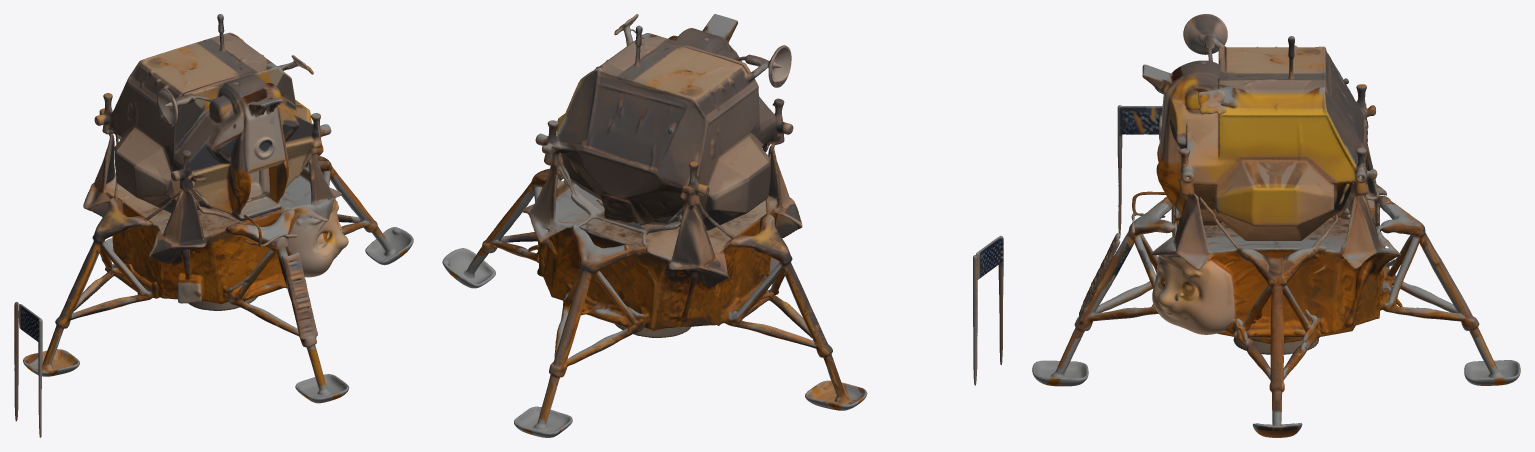
The model's file is apollo-11-eagle-descent-stage.glb.
3 renders of one model, left to right at view 1: azimuth 30°, elevation 25°; view 2: azimuth 150°, elevation 25°; view 3: azimuth 270°, elevation 25°, orthographic. The views are drawn at different scales.
Visible parts, largest first — view 1: tripo_node_4a36180f-74c0-4392-8498-92616e0d0597; view 2: tripo_node_4a36180f-74c0-4392-8498-92616e0d0597; view 3: tripo_node_4a36180f-74c0-4392-8498-92616e0d0597.
Part boxes in pixels (x1,y1,x2,y2): tripo_node_4a36180f-74c0-4392-8498-92616e0d0597: [14, 14, 413, 437]; tripo_node_4a36180f-74c0-4392-8498-92616e0d0597: [442, 14, 1003, 437]; tripo_node_4a36180f-74c0-4392-8498-92616e0d0597: [1032, 14, 1520, 437].
Bounding box in the file's own units: 1 × 0.6708 × 0.8539.
Materials: 1 (1 with a texture image).
